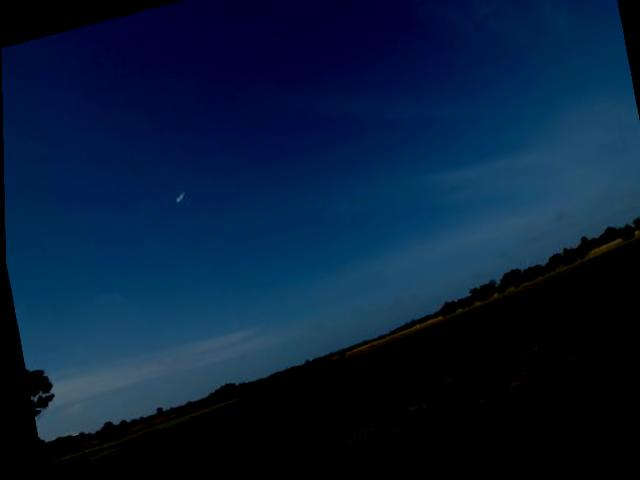uav: (169, 190, 186, 210)
